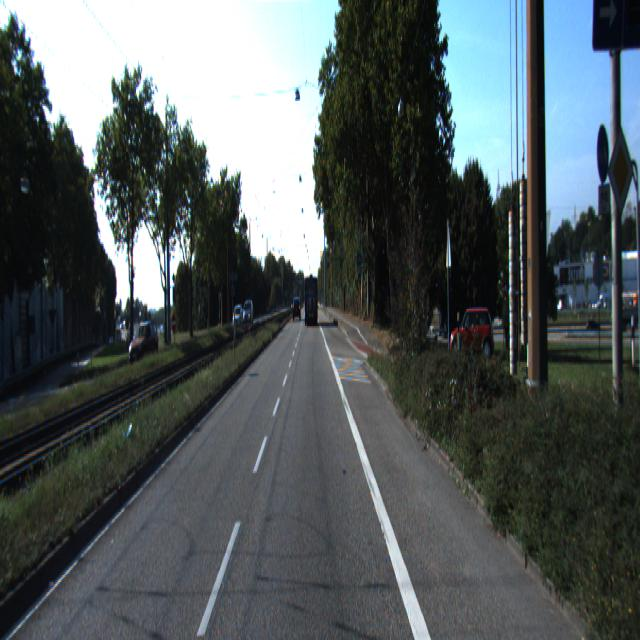Car: (450, 305, 495, 361), (128, 322, 160, 364), (304, 278, 318, 328)
